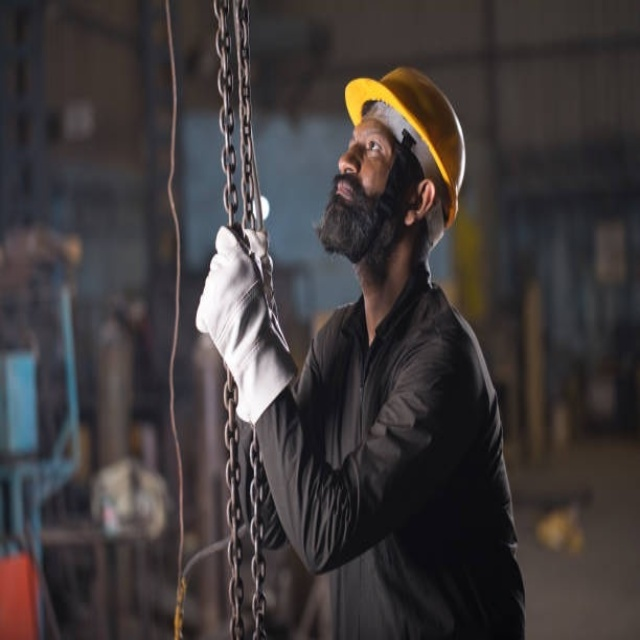Guantes: (195, 225, 298, 422)
Sin_gafas: (346, 115, 392, 163)
Sin_mascara: (319, 163, 368, 238)
